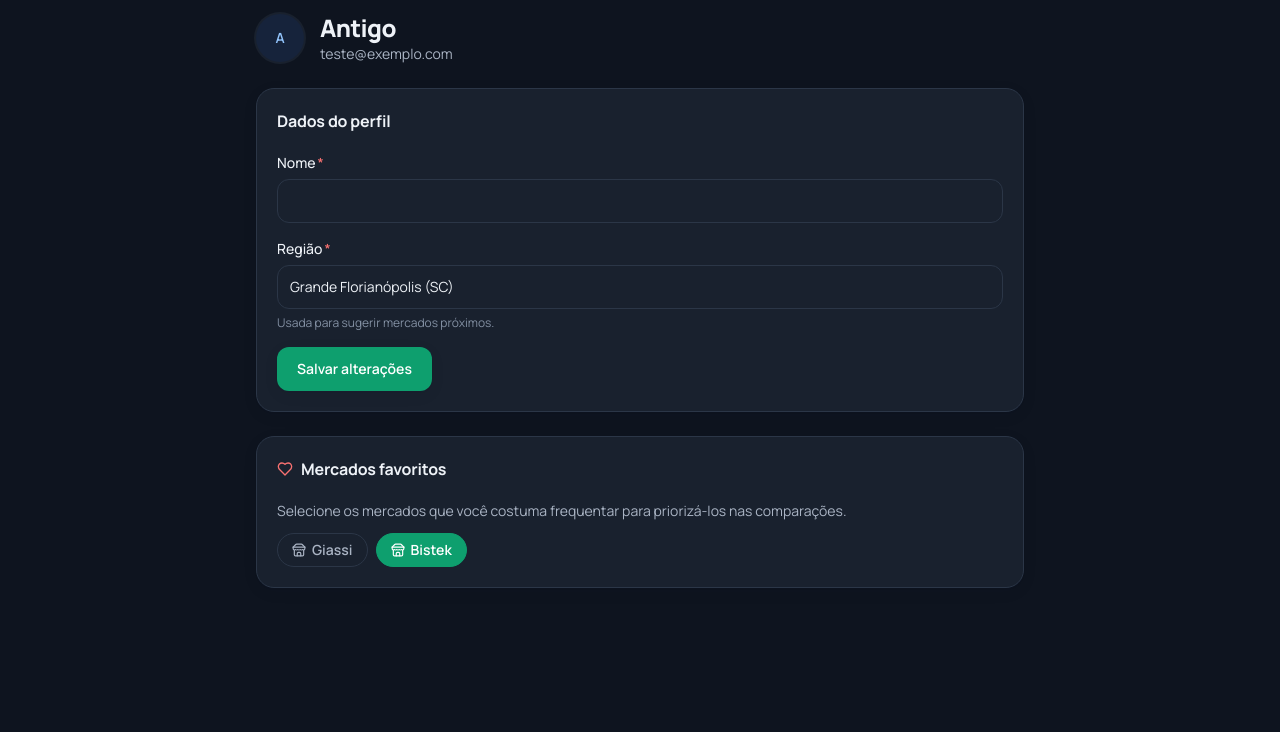
Test case: ProfilePage — atualização de perfil › mostra sucesso somente após a API confirmar
Type "Nome Novo" into the field labelled "Nome*".
click(640, 201); type("Nome Novo")  # box [277,179,1003,223]
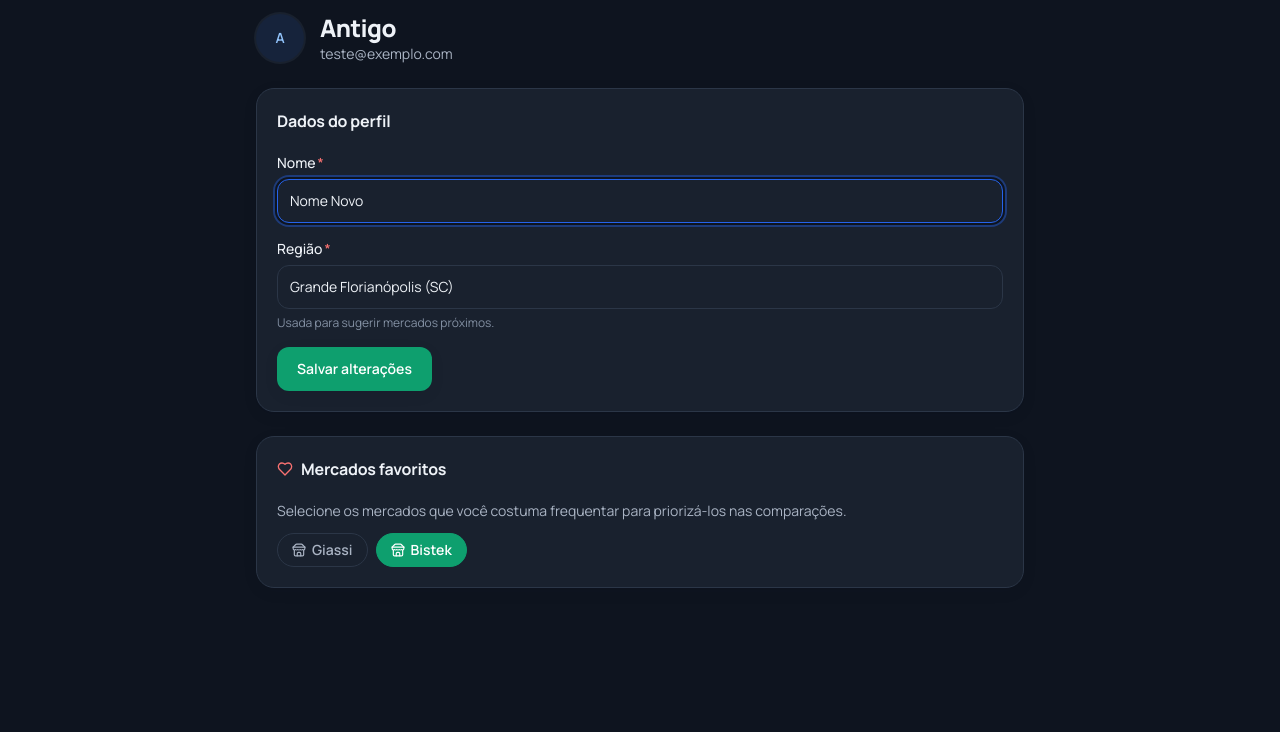
Type "Sul" into the field labelled "Região*".
click(640, 287); type("Sul")  # box [277,265,1003,309]
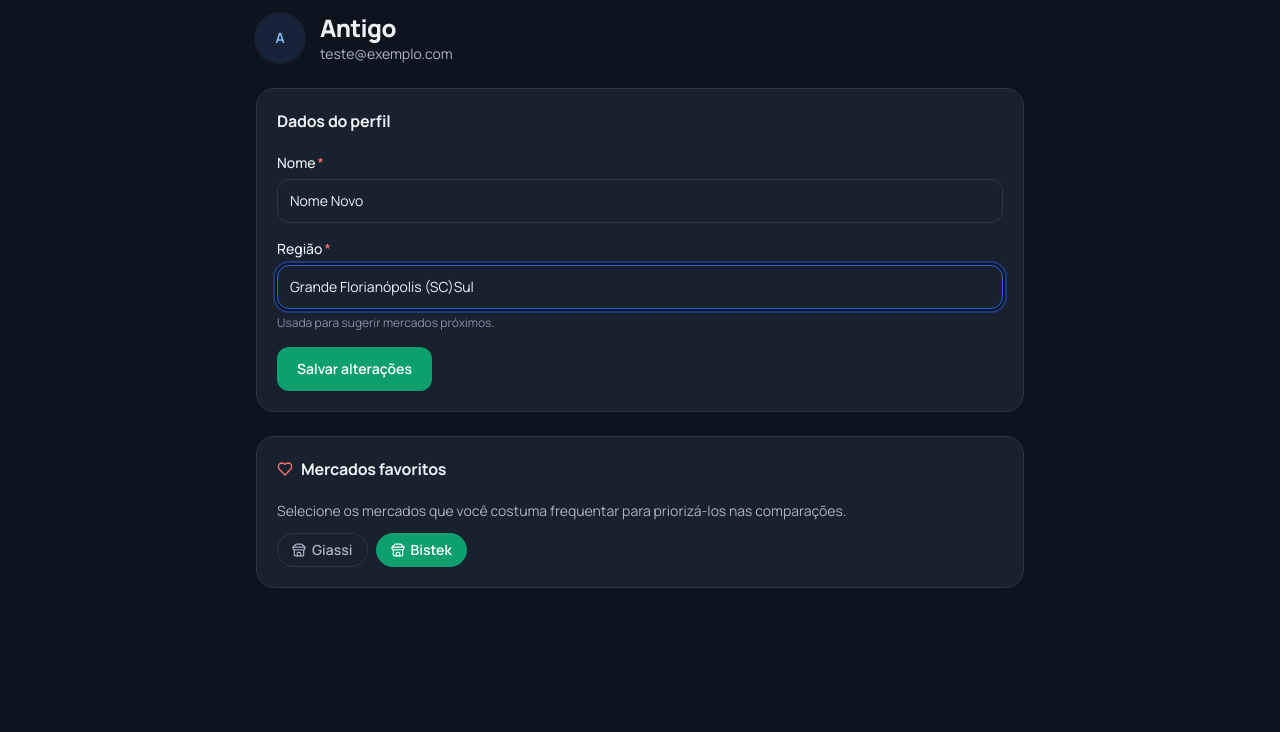
Click the button "Salvar alterações".
click(354, 369)  # box [277,347,432,391]
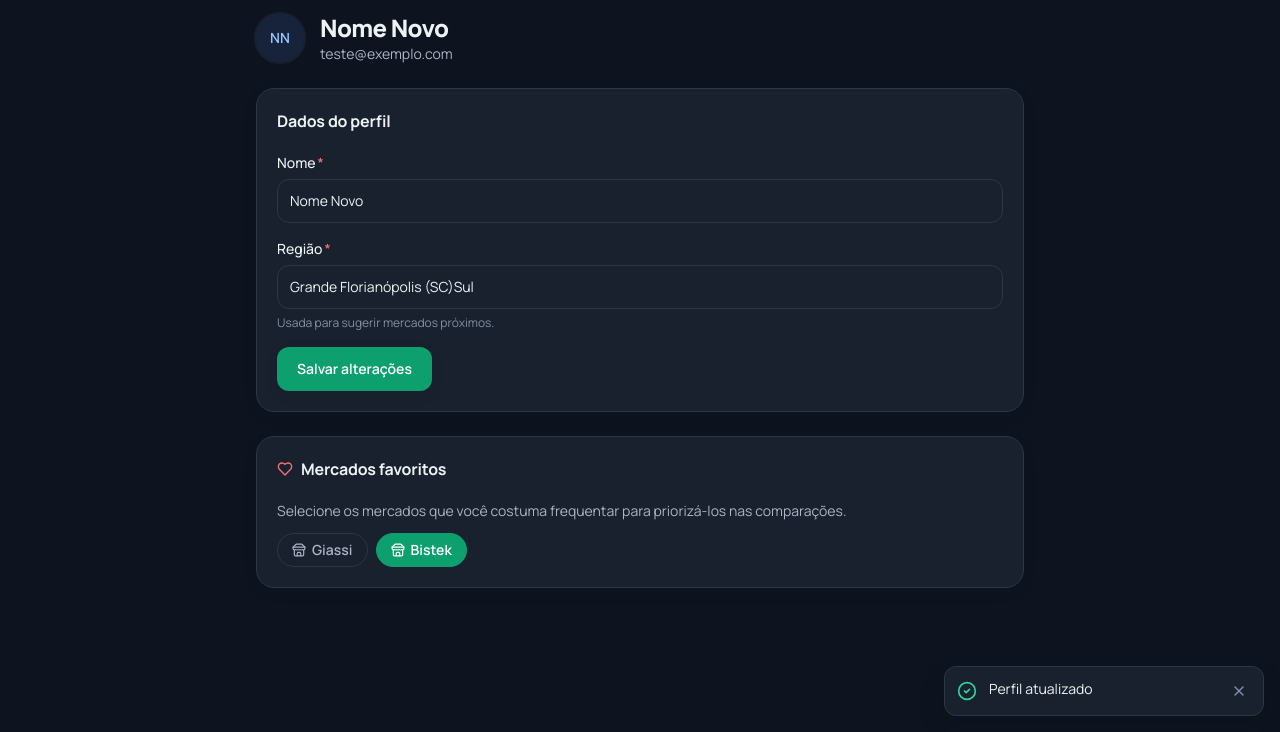
Check: the text "Perfil atualizado" is shown, box [989,679,1092,698]
